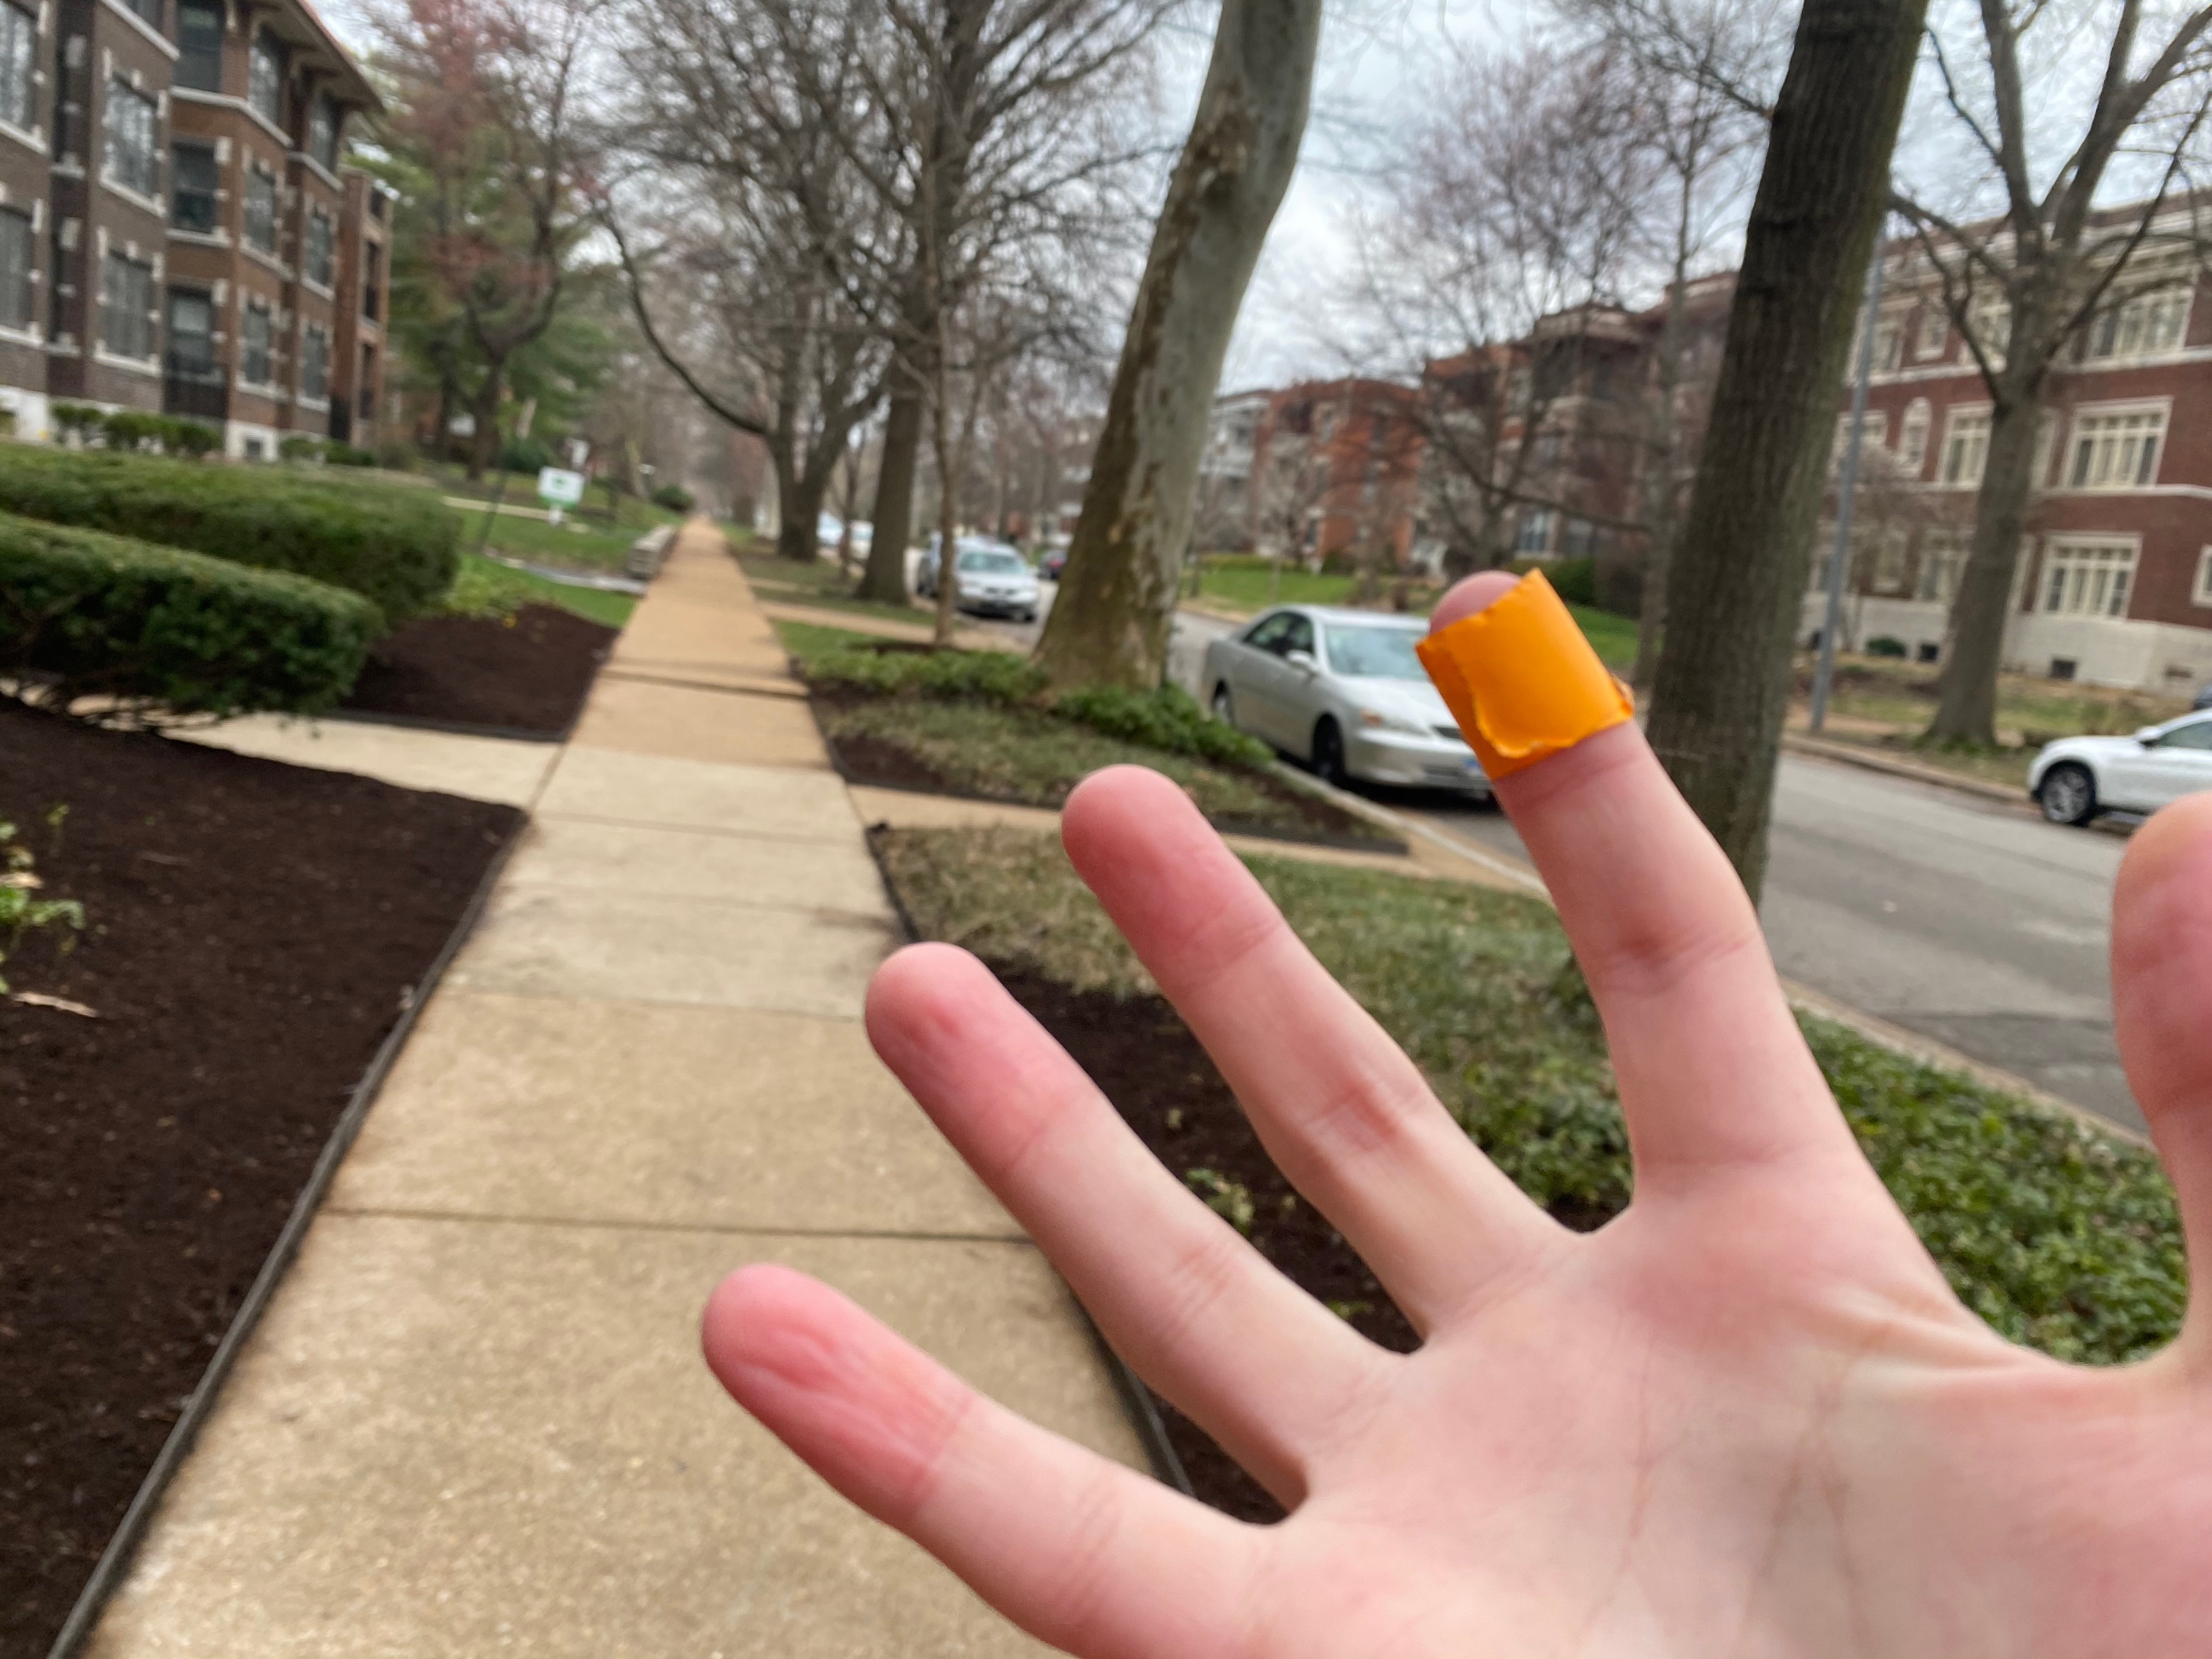fingertip: (1411, 559, 1656, 803)
